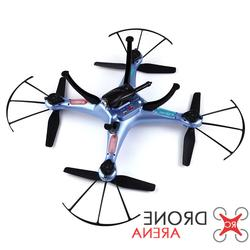drone: (5, 28, 246, 227)
